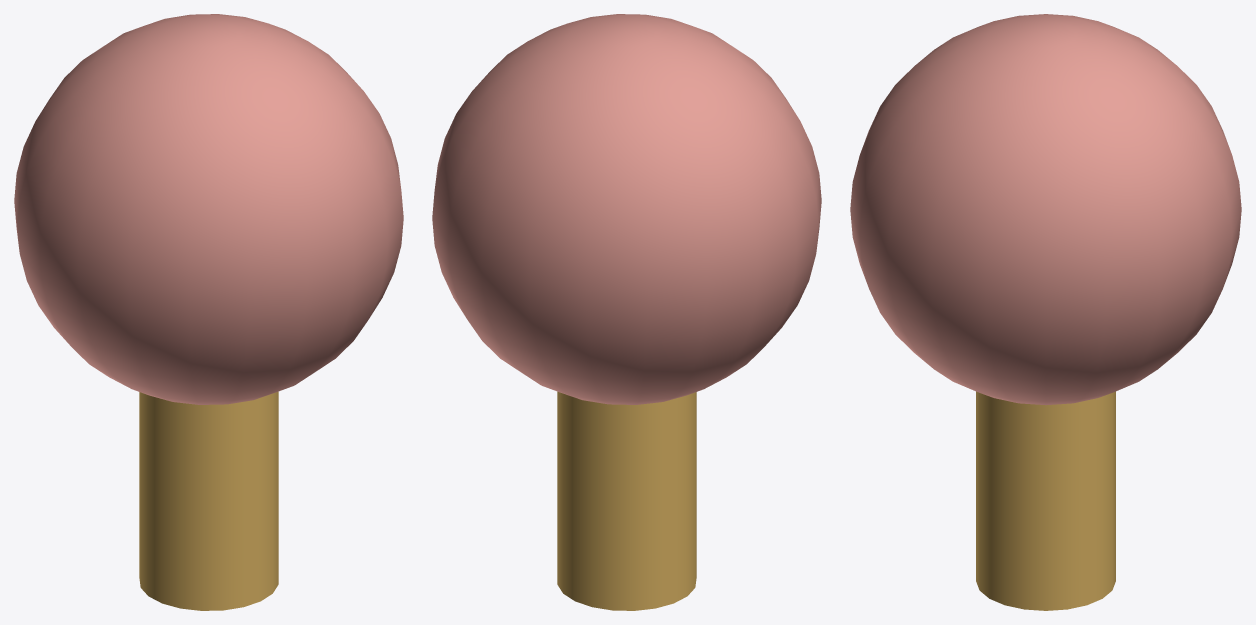
Rendered from redonda_rosa.fbx.
3 renders of one model, left to right at view 1: azimuth 30°, elevation 25°; view 2: azimuth 150°, elevation 25°; view 3: azimuth 270°, elevation 25°, orthographic.
Parts seen in each view (by area): view 1: pSphere1, arvore1; view 2: pSphere1, arvore1; view 3: pSphere1, arvore1.
Boxes of the visible parts, x1,y1,x2,y2 form: pSphere1: (14,14,403,404); arvore1: (139,391,278,610); pSphere1: (432,14,821,404); arvore1: (557,391,696,610); pSphere1: (850,14,1241,405); arvore1: (976,391,1115,610).
Size of the model in its own units: 1.5 by 2.32 by 1.5.
